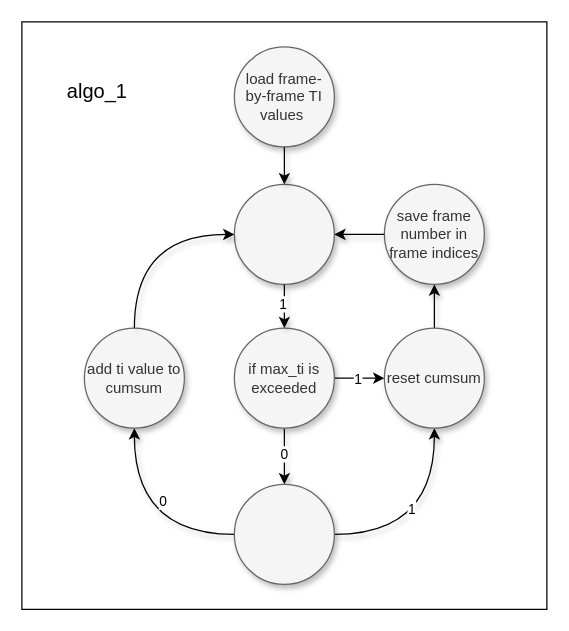
Some shapes in this 569 by 631 pixel diagram are drawn without their labels. The shapes that lost their labels are listed below. From the top down, each one's centre as x and y in pixels, then its label:
At point 285,235: "read next TI value".
At point 285,535: "if cumsum threshold is exceeded".
